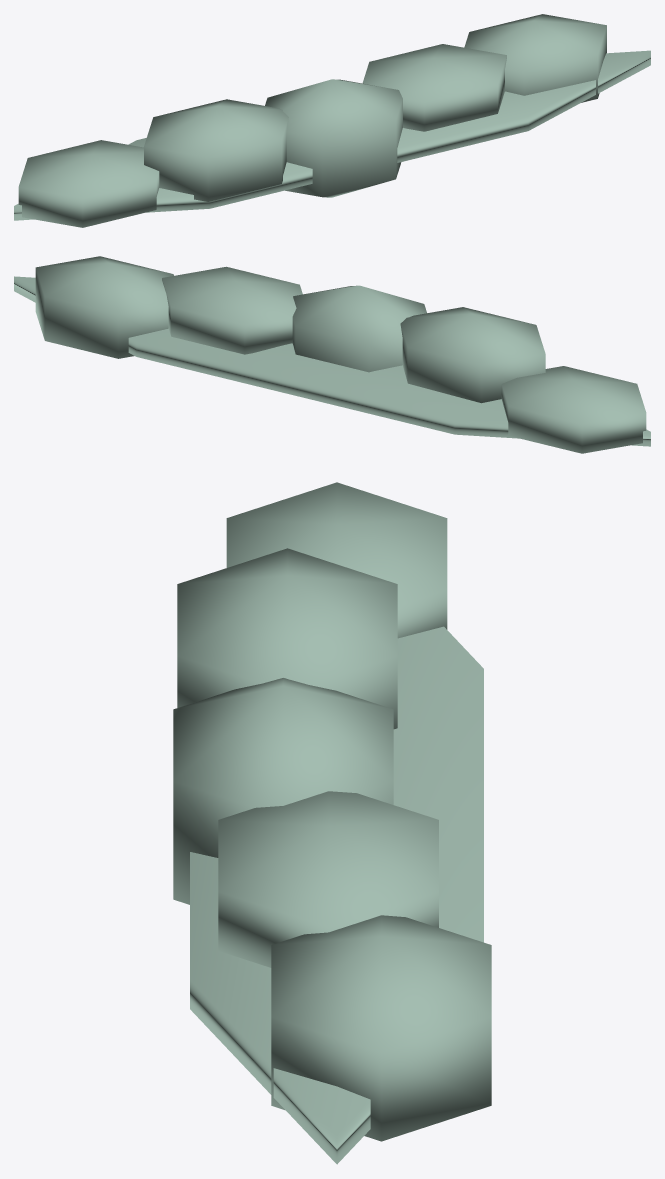
Rendered from distant_coast_long_low.glb.
3 views of the same model, one above another, from view 1: azimuth 30°, elevation 25°; view 2: azimuth 150°, elevation 25°; view 3: azimuth 270°, elevation 25° (orthographic). The views are drawn at different scales.
Size of the model in its own units: 45.03 by 8 by 9.75.
